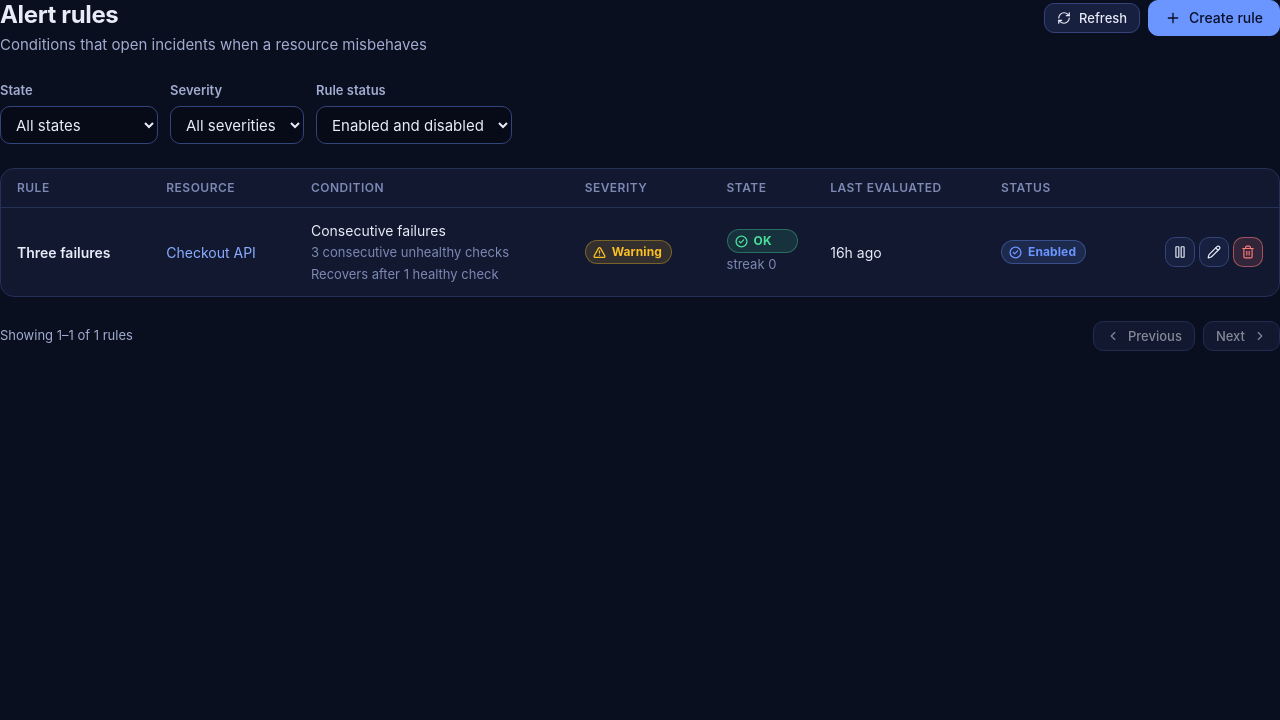
Test case: AlertsPage create › blocks creation when the resource is at the rule limit
Expected: the text "Three failures" is shown, [17,244,110,260]
Step 1. Click the button "Create rule" → click(1214, 18), box [1148,0,1279,36]
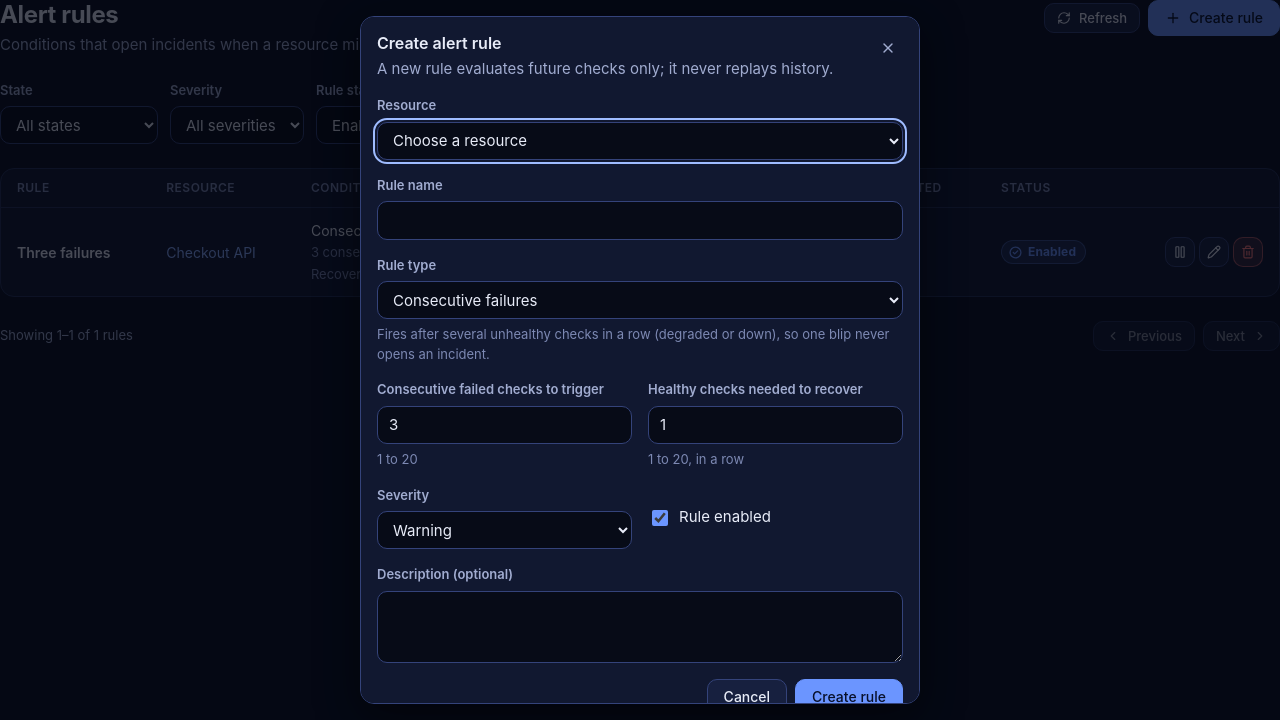
Step 2. Select "Checkout API" in the dropdown labelled "Resource" → (640, 141), box [377,122,903,160]
(page scrolled)
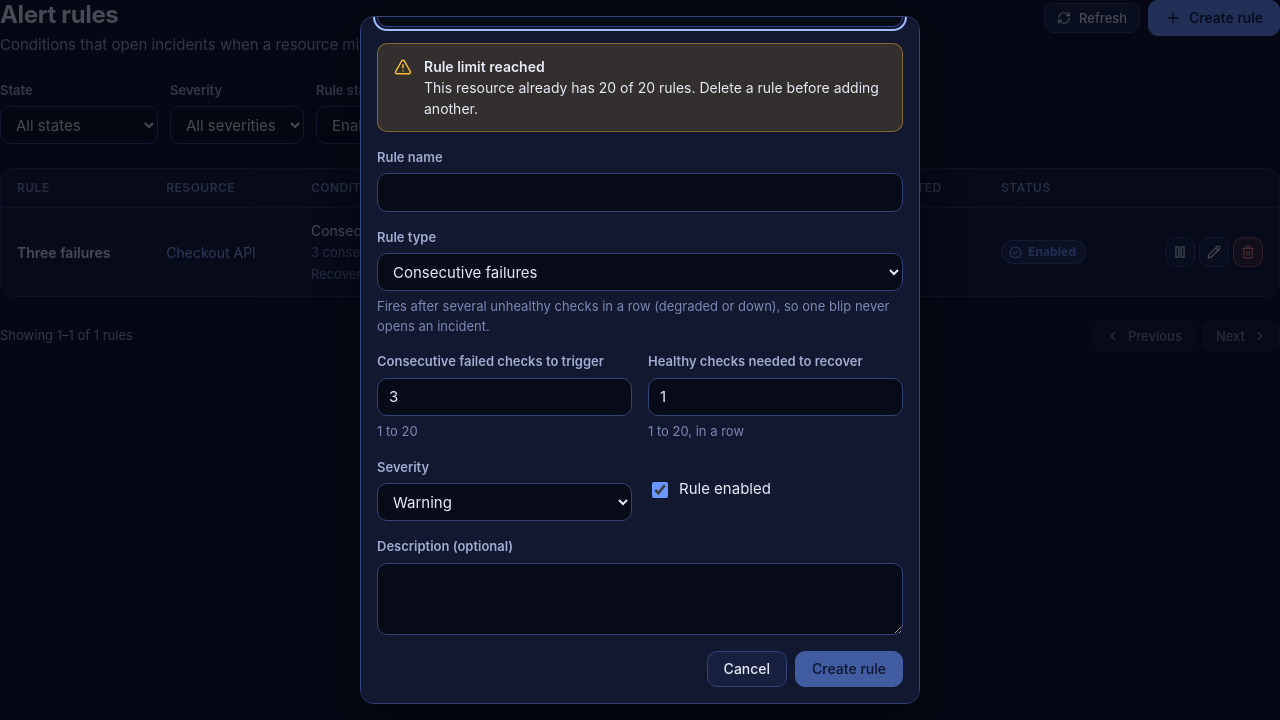
Result: the text "Rule limit reached" is shown at [424,58,545,75]
Result: the text "already has 20 of 20 rules" is shown at [424,77,886,119]
Result: the button "Create rule" is disabled at [795,651,903,687]
